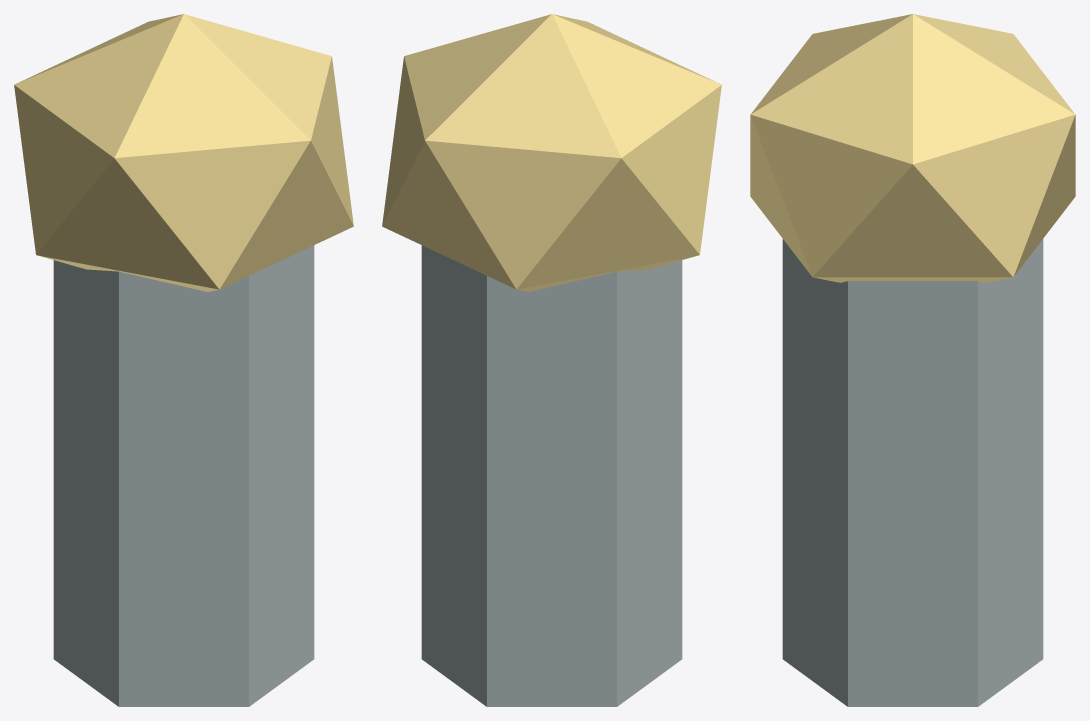
The model's file is runway_light.glb.
3 renders of one model, left to right at view 1: azimuth 30°, elevation 25°; view 2: azimuth 150°, elevation 25°; view 3: azimuth 270°, elevation 25°, orthographic.
Visible parts, largest first — view 1: runway_light__mount, runway_light__light; view 2: runway_light__mount, runway_light__light; view 3: runway_light__mount, runway_light__light.
Part boxes in pixels (x1,y1,x2,y2): runway_light__mount: (53,245,314,706); runway_light__light: (14,14,353,291); runway_light__mount: (421,245,682,706); runway_light__light: (382,14,721,291); runway_light__mount: (782,239,1043,706); runway_light__light: (750,14,1075,282).
Size of the model in its own units: 0.3935 by 0.82 by 0.3743.
